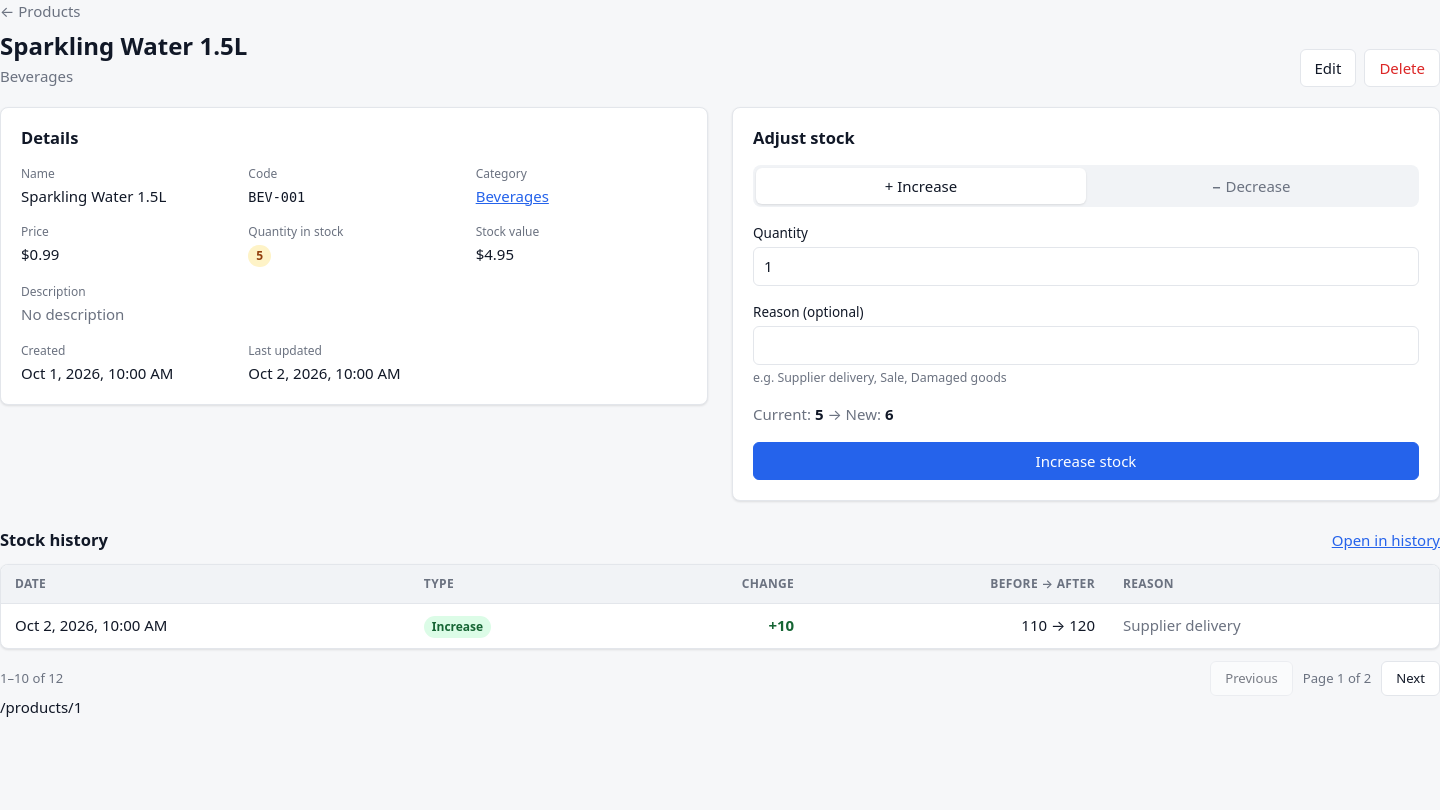
Test case: ProductDetailPage › deletes the product and returns to the list
Expected: the heading "Sparkling Water 1.5L" is shown, [0,30,247,60]
Click the button "Delete" at (1402, 68), box [1364,48,1439,87]
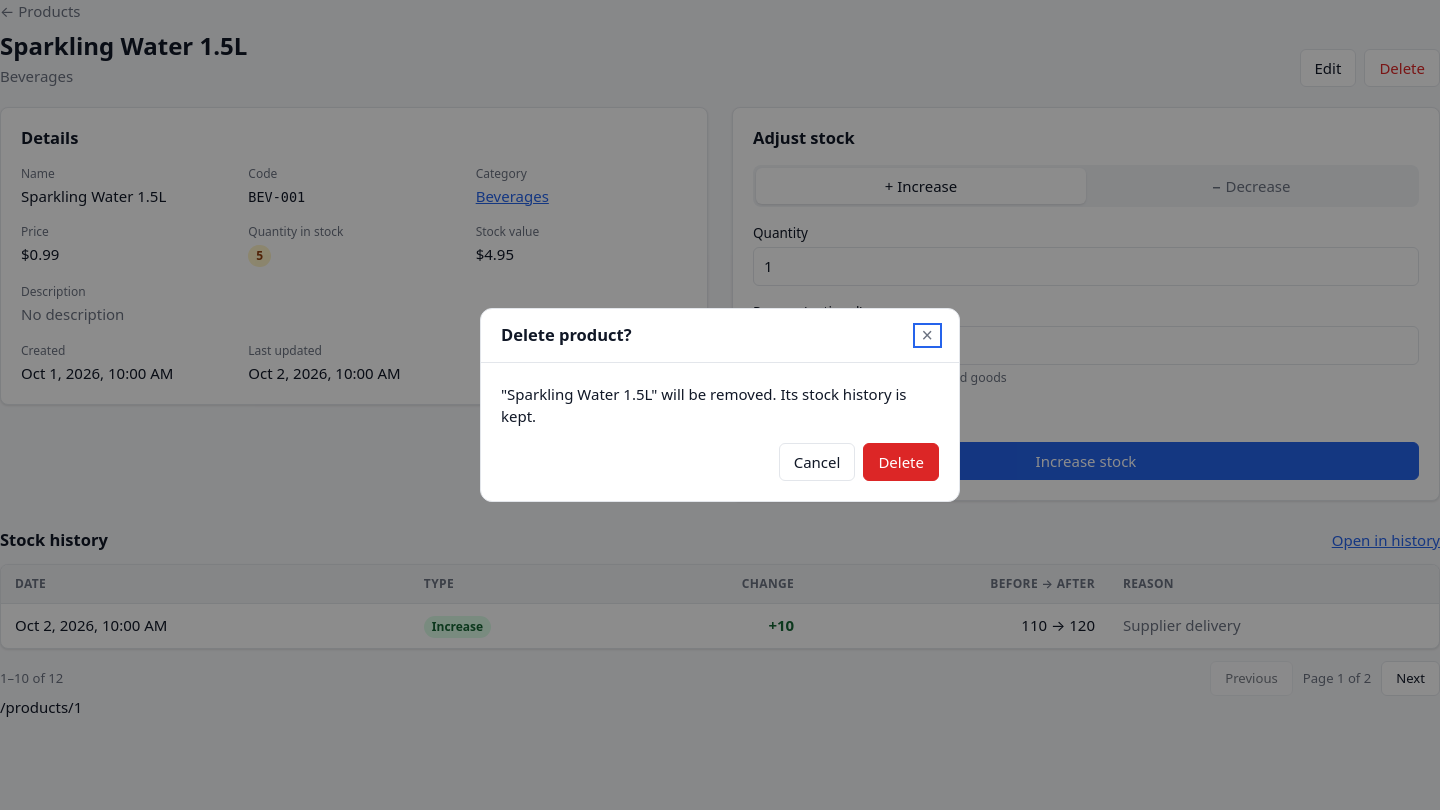
Click the button "Delete" at (901, 462), box [863,443,939,481]
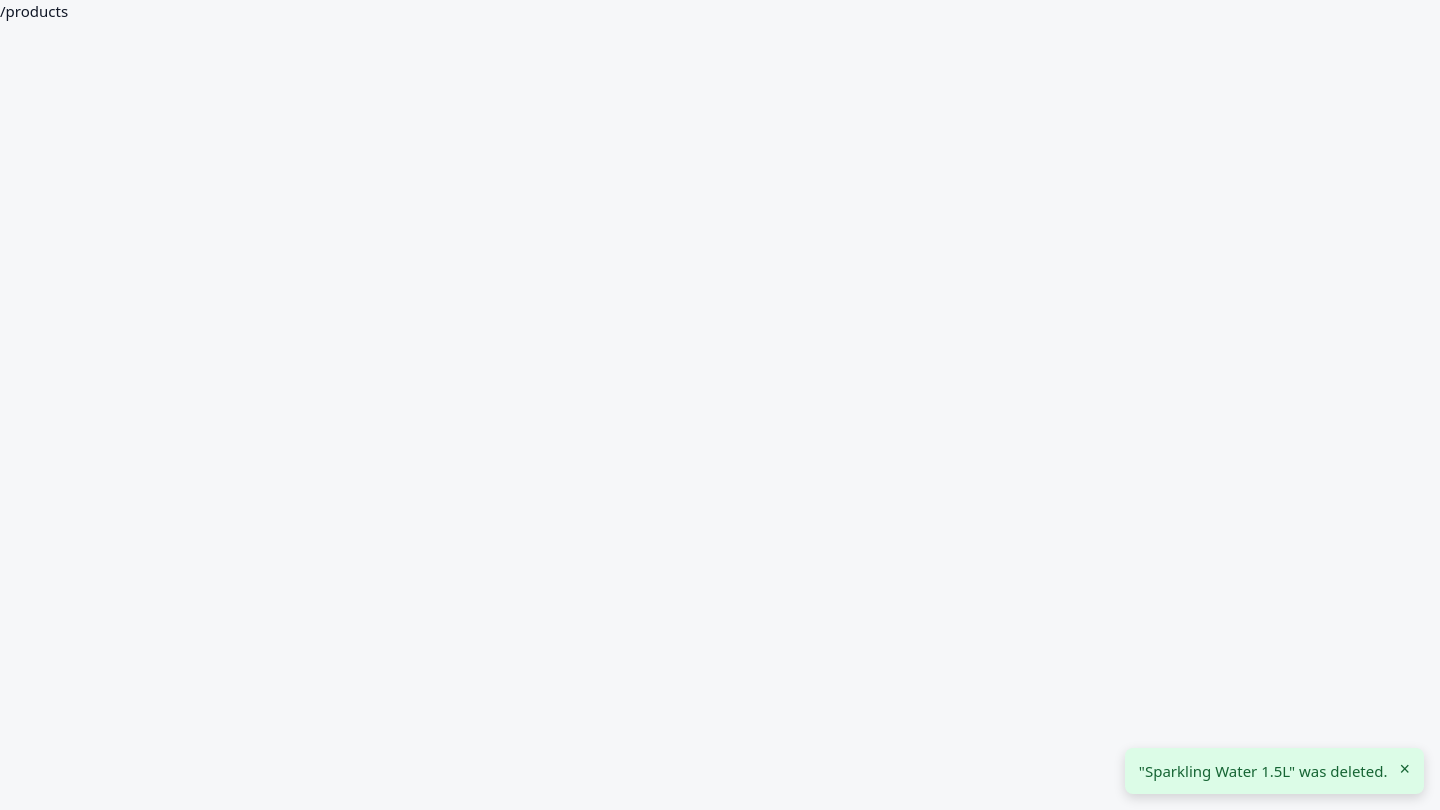
Now the text with test id "location" reads "/products", box [0,1,68,21]
